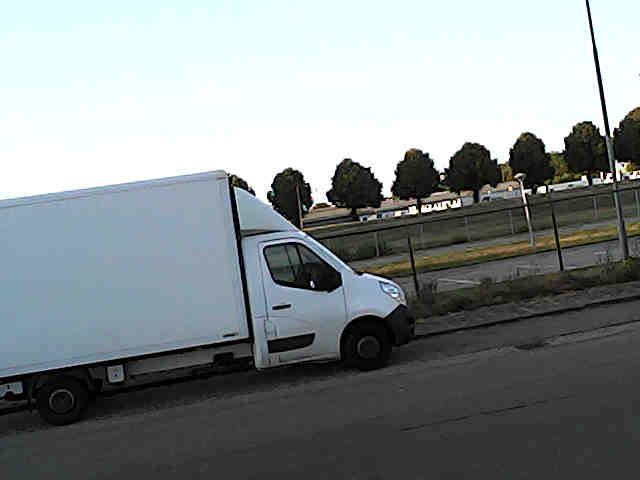whitevan: (0, 171, 413, 423)
